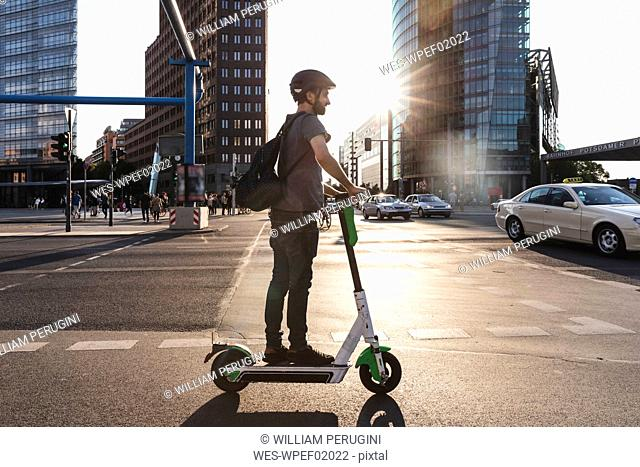scooter: (206, 180, 404, 392)
with helmet: (289, 66, 341, 122)
